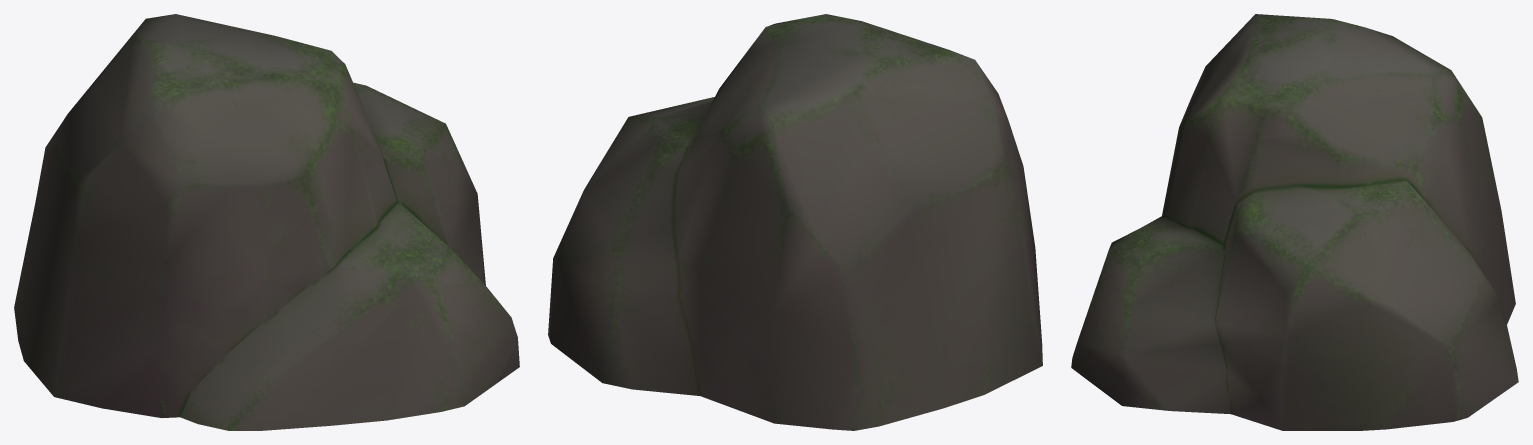
Rendered from Outdoor_prop_stones_02.FBX.
3 views of the same model, side by side, from view 1: azimuth 30°, elevation 25°; view 2: azimuth 150°, elevation 25°; view 3: azimuth 270°, elevation 25° (orthographic). The views are drawn at different scales.
Visible parts, largest first — view 1: Outdoor_prop_stones_02; view 2: Outdoor_prop_stones_02; view 3: Outdoor_prop_stones_02.
Part boxes in pixels (x1=…): Outdoor_prop_stones_02: x1=14, y1=14, x2=519, y2=430; Outdoor_prop_stones_02: x1=548, y1=14, x2=1042, y2=430; Outdoor_prop_stones_02: x1=1071, y1=14, x2=1518, y2=430.
Bounding box in the file's own units: 135 × 130 × 89.52.
